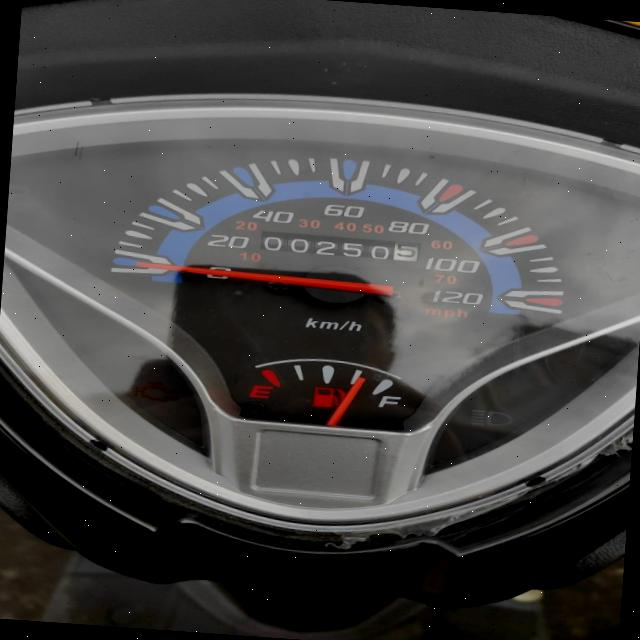odometer: (258, 229, 419, 262)
